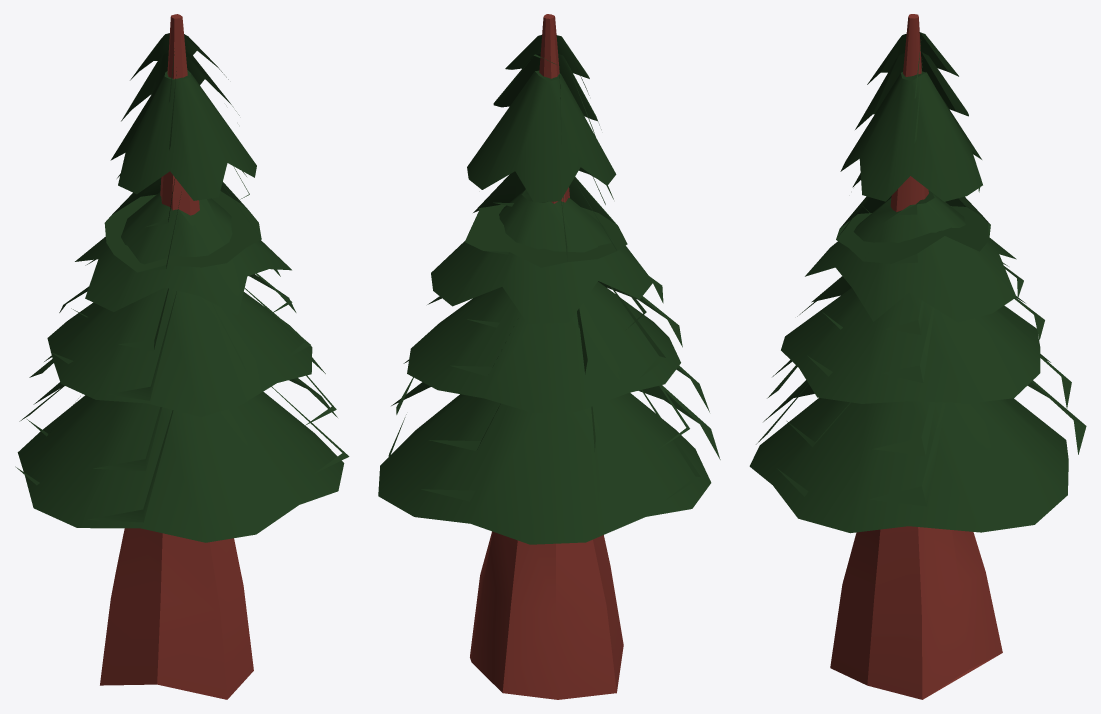
The model's file is tree3.fbx.
The picture shows the model from 3 angles, left to right: view 1: azimuth 30°, elevation 25°; view 2: azimuth 150°, elevation 25°; view 3: azimuth 270°, elevation 25°; orthographic projection.
Parts seen in each view (by area): view 1: Cylinder.040; view 2: Cylinder.040; view 3: Cylinder.040.
Boxes of the visible parts, x1,y1,x2,y2 form: Cylinder.040: (15, 14, 349, 699); Cylinder.040: (378, 14, 720, 699); Cylinder.040: (749, 14, 1086, 699).
Size of the model in its own units: 455 by 958 by 452.
